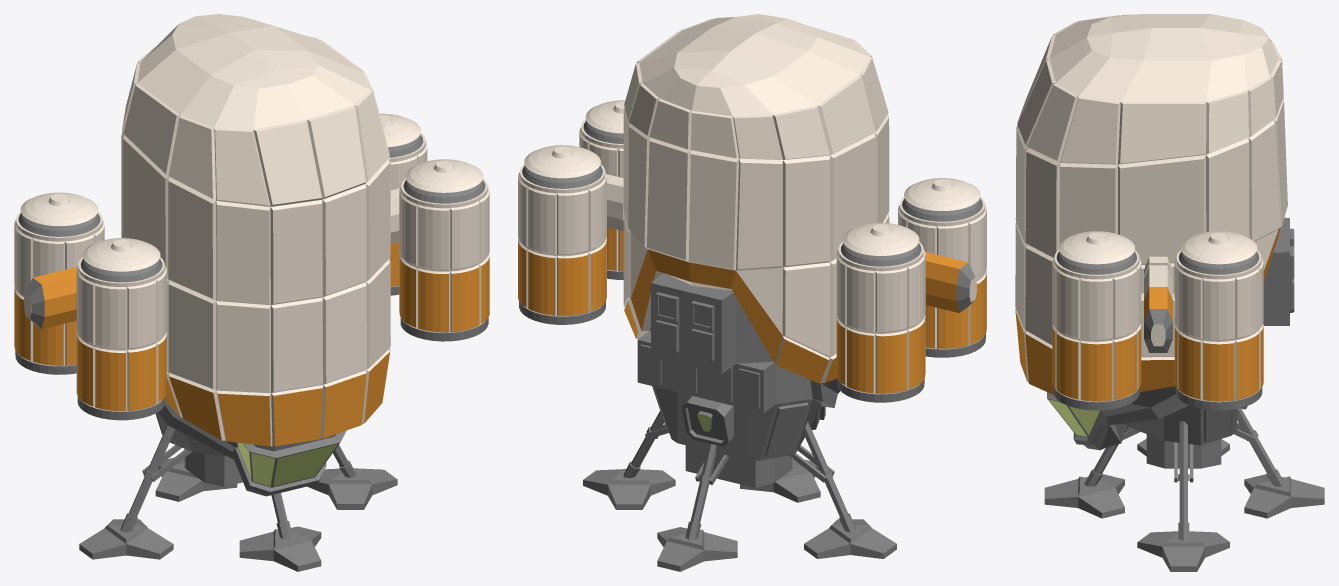
The model's file is ship.glb.
The picture shows the model from 3 angles, left to right: view 1: azimuth 30°, elevation 25°; view 2: azimuth 150°, elevation 25°; view 3: azimuth 270°, elevation 25°; orthographic projection.
Parts seen in each view (by area): view 1: LandingGear; view 2: LandingGear; view 3: LandingGear.
Part boxes in pixels (x1,y1,x2,y2): LandingGear: (14, 14, 489, 571); LandingGear: (518, 14, 986, 571); LandingGear: (1015, 14, 1324, 571).
Bounding box in the file's own units: 12.49 × 12.75 × 7.59.
